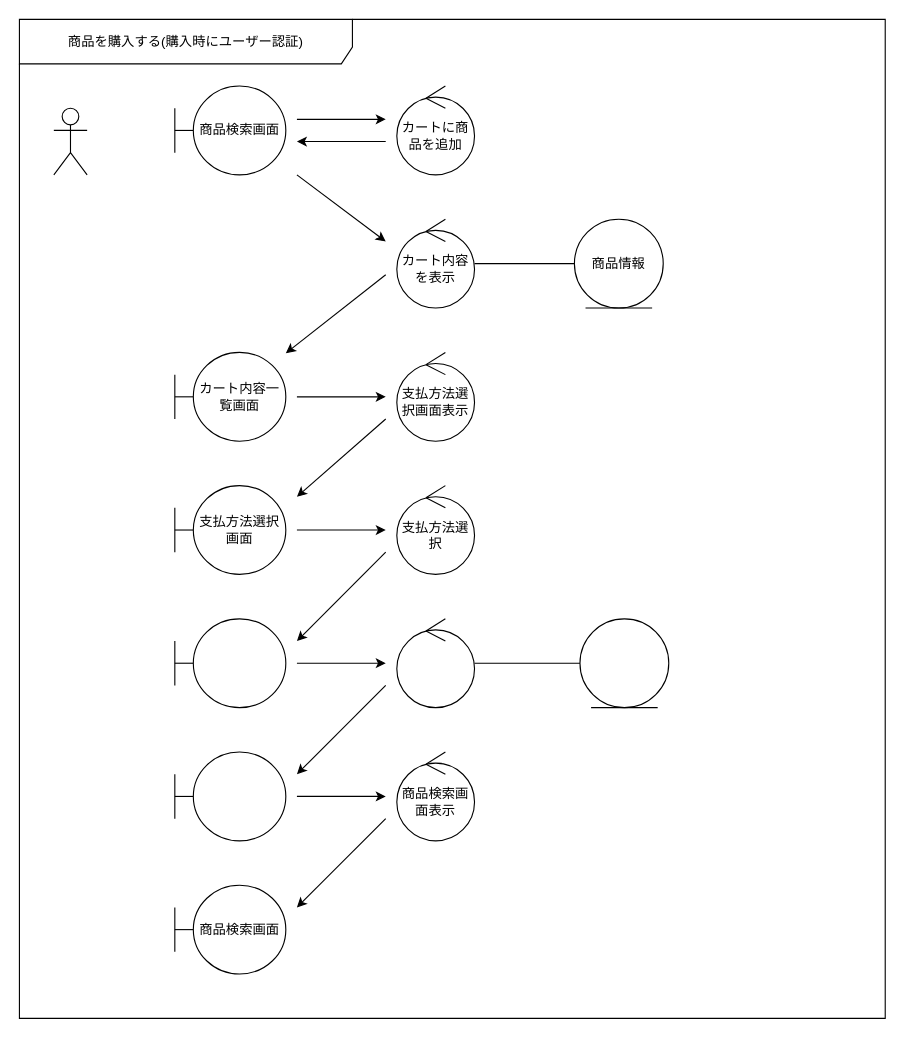
Some shapes in this 905 by 1038 pixel diagram are drawn without their labels. Each missing label, with the centre of its shape:
受注情報: the point at 624,663
登録ユーザー: the point at 70,141
購入: the point at 435,663
購入完了画面: the point at 230,796
購入確認画面: the point at 230,663
